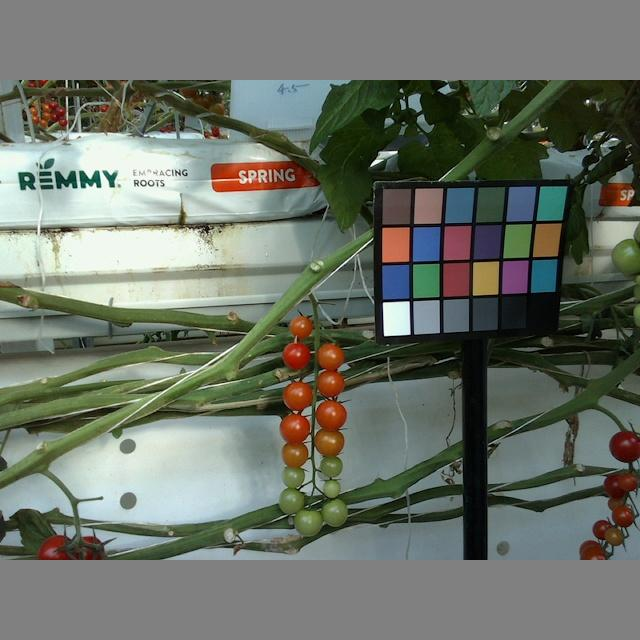green: (609, 235, 640, 278), (293, 509, 324, 539), (278, 487, 305, 516), (322, 499, 349, 527), (280, 462, 305, 490), (318, 454, 343, 478), (321, 478, 340, 499)
pink: (315, 397, 348, 428), (311, 428, 346, 457), (280, 341, 312, 370), (283, 383, 313, 412), (315, 369, 346, 397), (280, 416, 310, 442), (315, 344, 346, 369), (280, 443, 310, 468), (286, 314, 312, 337), (604, 526, 625, 547)
red: (608, 428, 640, 466), (610, 502, 635, 528), (615, 465, 639, 491)
